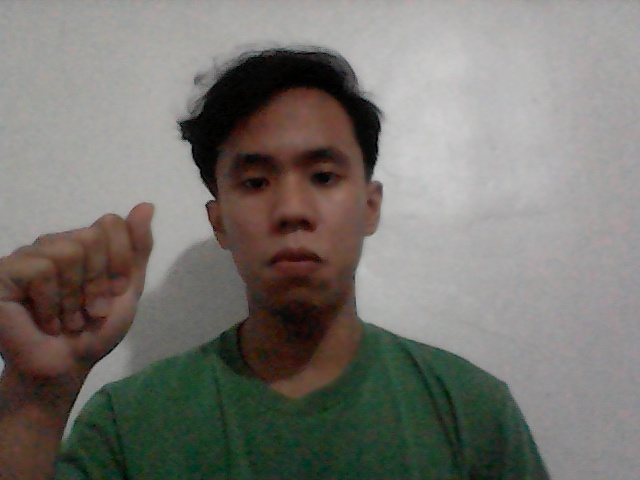A: (1, 187, 179, 415)
